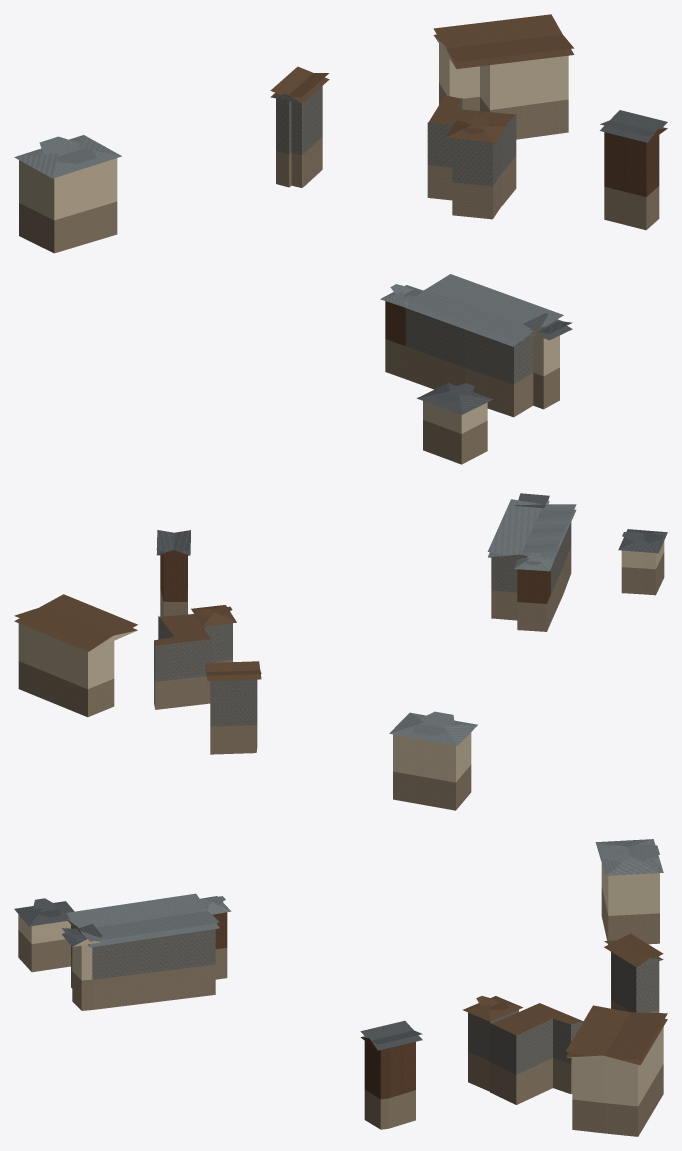
The model's file is bld_c33_45_240.gltf.
The picture shows the model from 3 angles, top to bottom: view 1: azimuth 30°, elevation 25°; view 2: azimuth 150°, elevation 25°; view 3: azimuth 270°, elevation 25°; orthographic projection. The views are drawn at different scales.
Visible parts, largest first — view 1: bld_c33_45_240; view 2: bld_c33_45_240; view 3: bld_c33_45_240.
Part boxes in pixels (x1,y1,x2,y2): bld_c33_45_240: (14,14,667,464); bld_c33_45_240: (14,493,667,810); bld_c33_45_240: (14,839,667,1136).
Bounding box in the file's own units: 85.59 × 15.9 × 99.51.
Materials: 10 (10 with a texture image).
